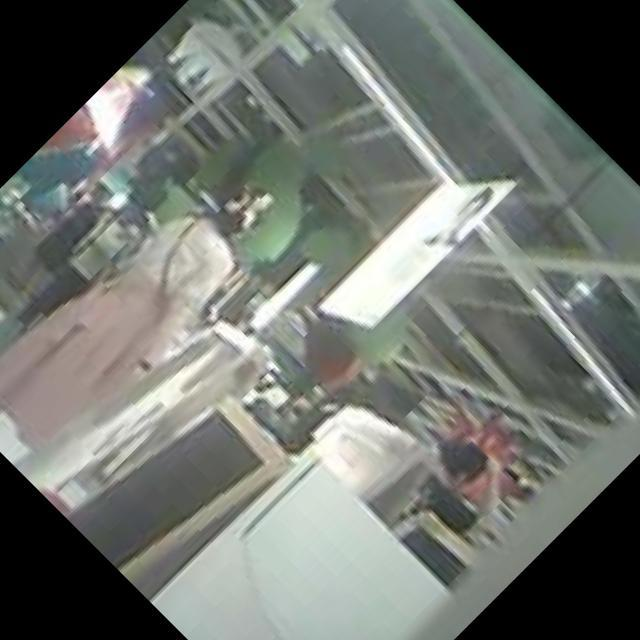person: (0, 144, 295, 484)
